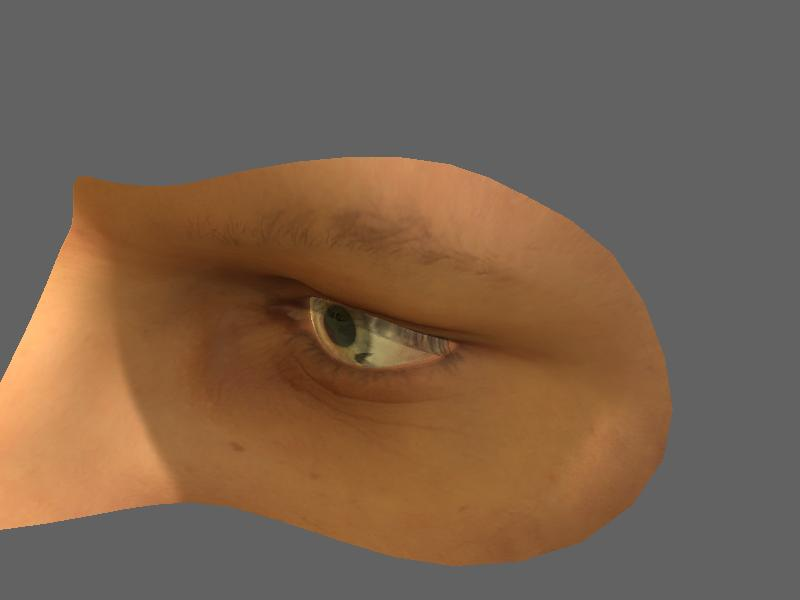iris: (304, 291, 376, 366)
